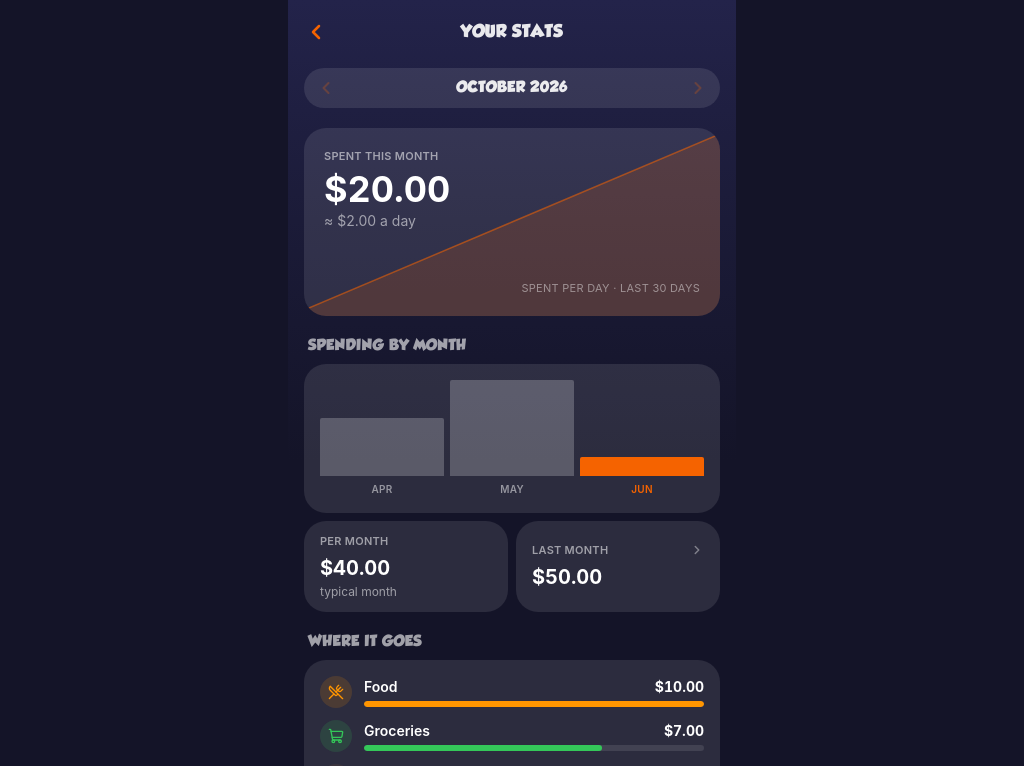
Test: Stats › pages the whole screen to a month by tapping its bar, and back with Next
The image size is (1024, 766).
Expected: the text "Spent this month" is shown, [324,149,438,163]
Click the button with aria-label "May: $50.00": x=512, y=438 [450,380,574,497]
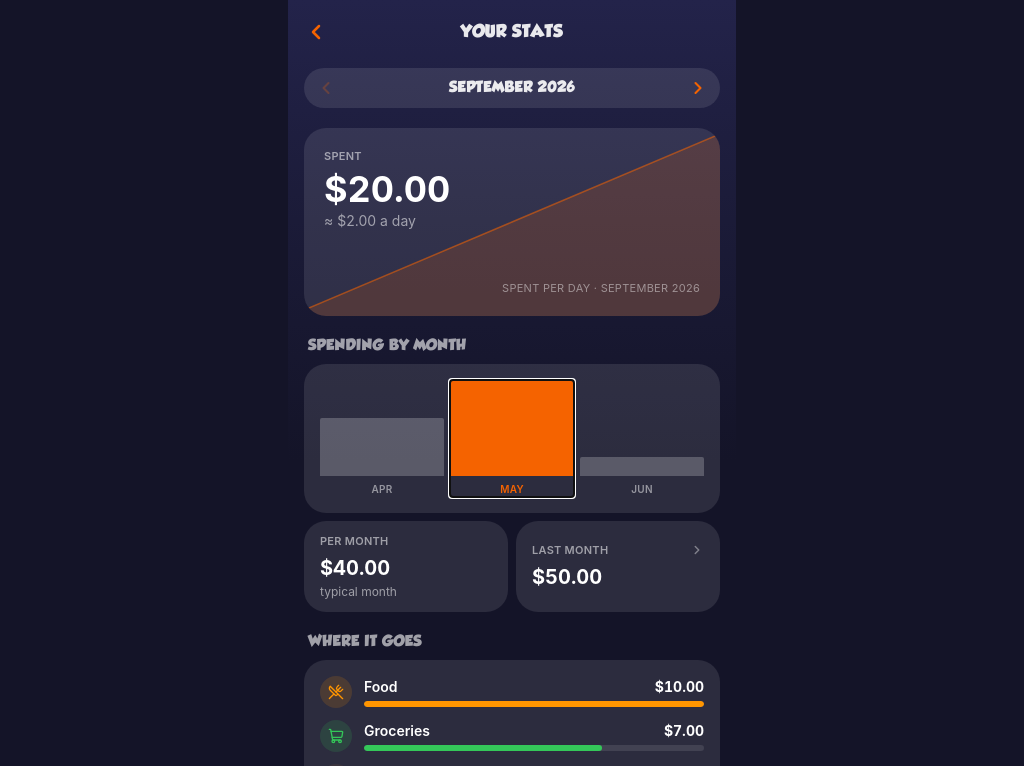
Expected: the text "Spent" is shown, [324,149,362,163]
Expected: the text "Spent this month" is gone
Click the button named "Next month": x=698, y=88 [680,70,716,106]
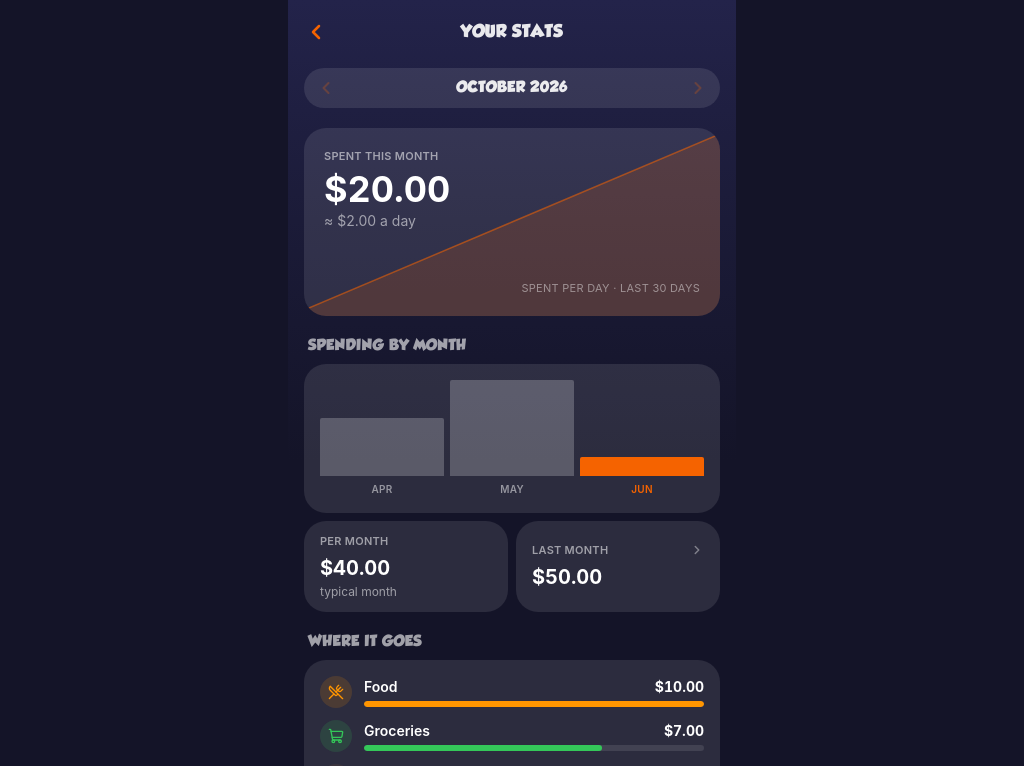
Expected: the text "Spent this month" is shown, [324,149,438,163]
Expected: the button named "Next month" is disabled, [680,70,716,106]
